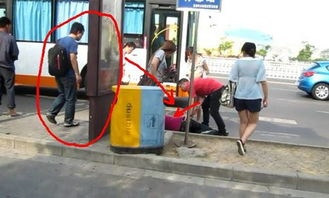falling: (152, 105, 222, 138)
